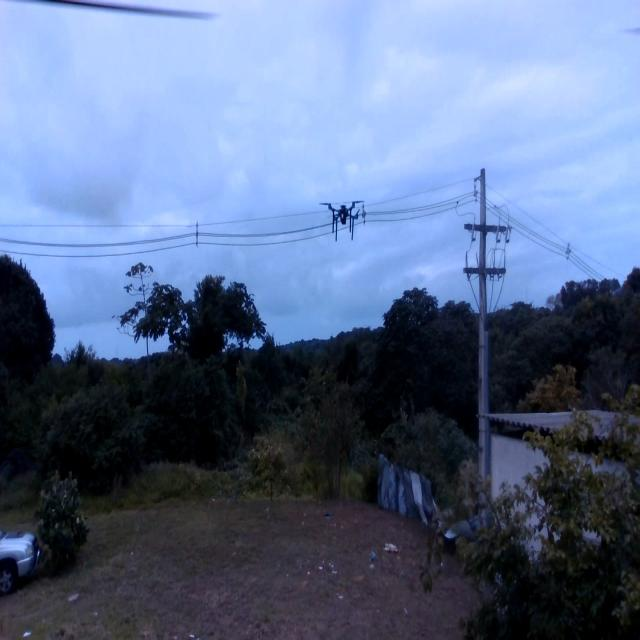-uav-: (312, 188, 366, 246)
